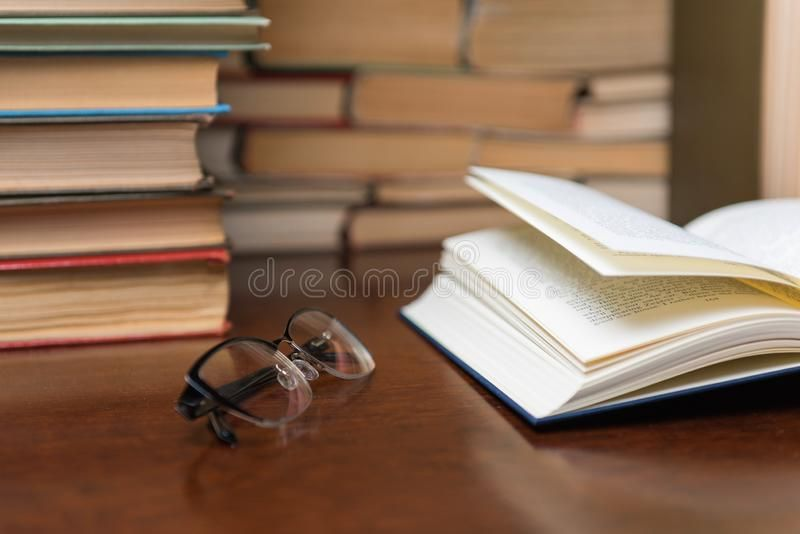Open Book: (413, 159, 800, 441)
